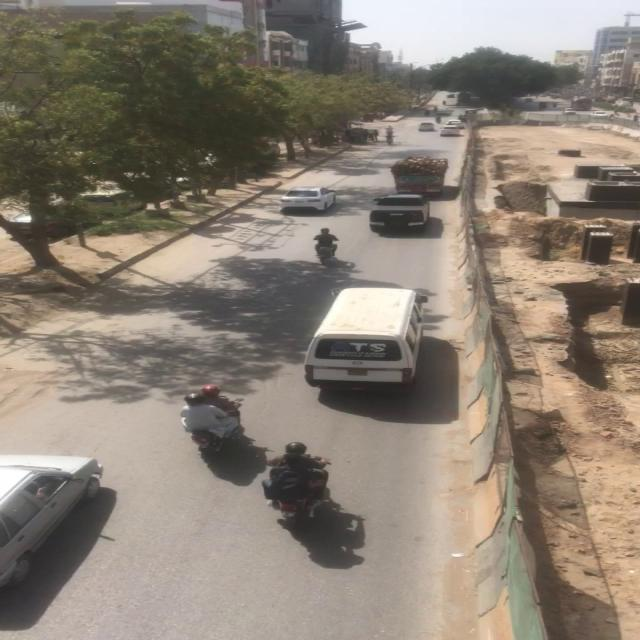car: (1, 444, 109, 601), (370, 194, 432, 238), (280, 184, 337, 213), (438, 125, 462, 138), (417, 122, 436, 134)
motorbike: (260, 436, 355, 544), (170, 374, 254, 464), (310, 222, 350, 270)
truck: (388, 156, 456, 190)
